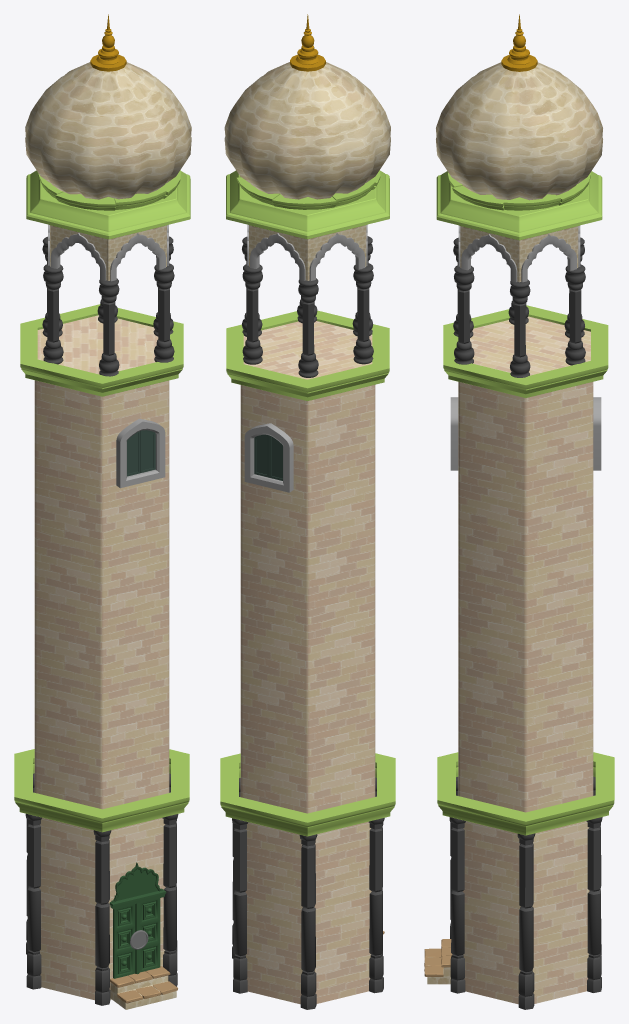
The model's file is SM_minaret_02.fbx.
The picture shows the model from 3 angles, left to right: view 1: azimuth 30°, elevation 25°; view 2: azimuth 150°, elevation 25°; view 3: azimuth 270°, elevation 25°; orthographic projection.
Visible parts, largest first — view 1: Object32888; view 2: Object32888; view 3: Object32888.
Boxes of the visible parts, box(x1,y1,x2,y2) form: Object32888: box(14, 14, 191, 1009); Object32888: box(220, 14, 395, 1009); Object32888: box(424, 14, 614, 1009).
Size of the model in its own units: 223 by 1160 by 208.
